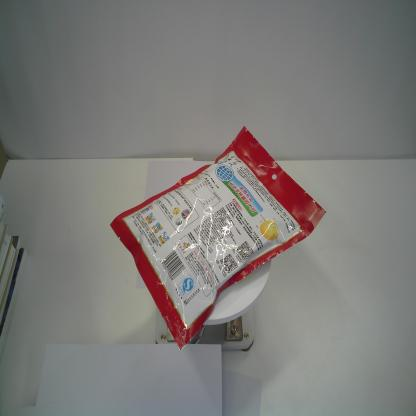Instant Drink: (109, 124, 326, 354)
